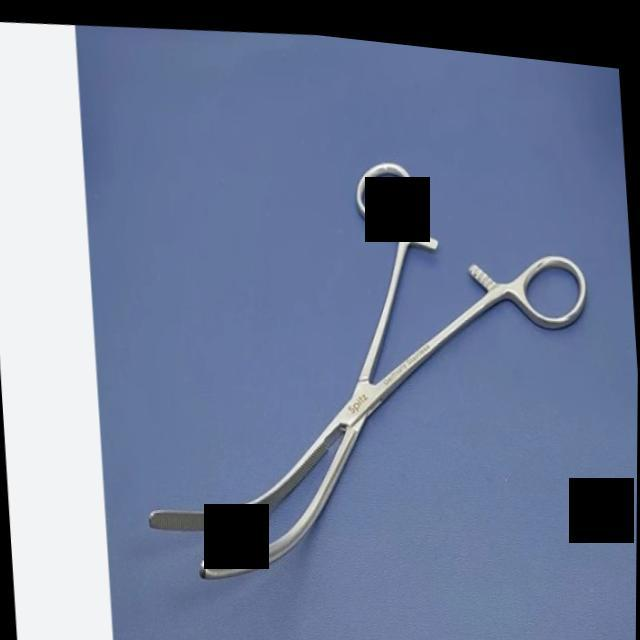Doyel Instestinal Forceps: (118, 112, 611, 614)
